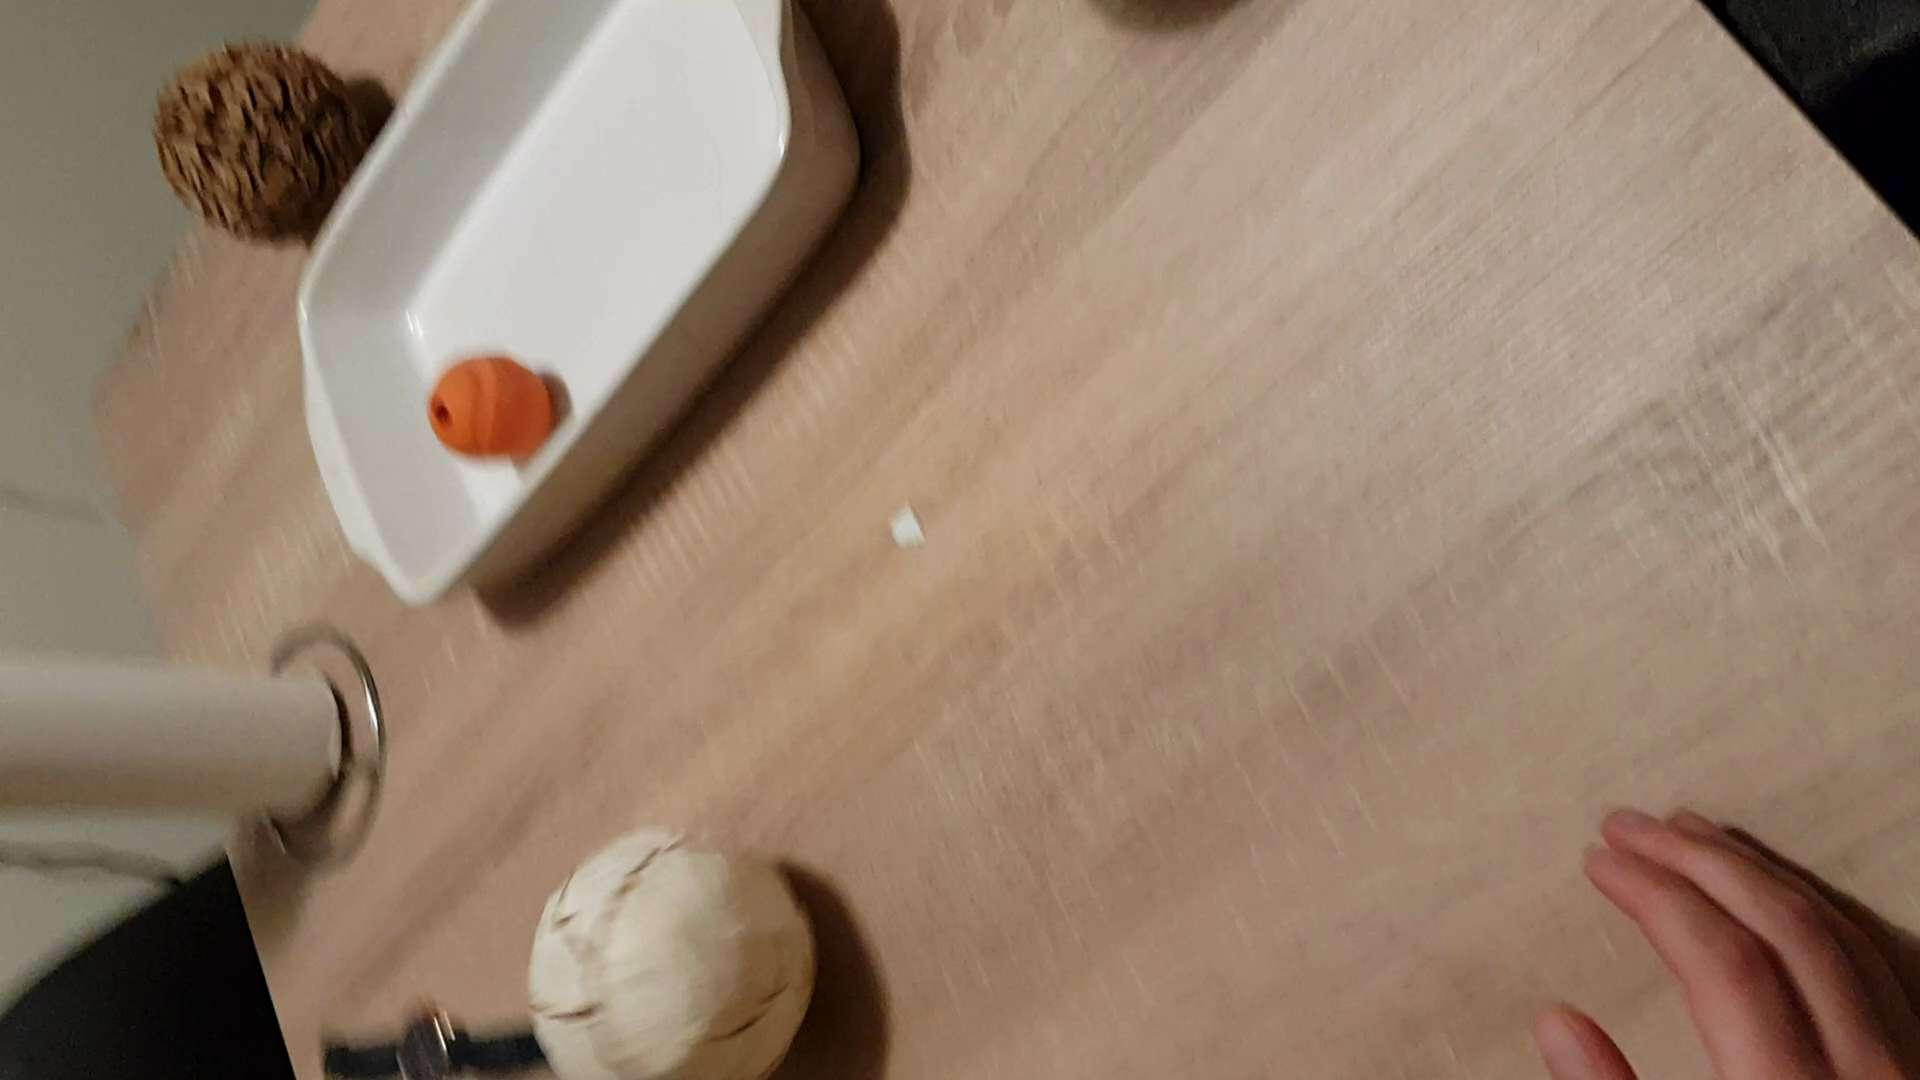Sphere: (142, 26, 361, 243), (418, 349, 553, 459)
sphere: (447, 839, 829, 1079)
